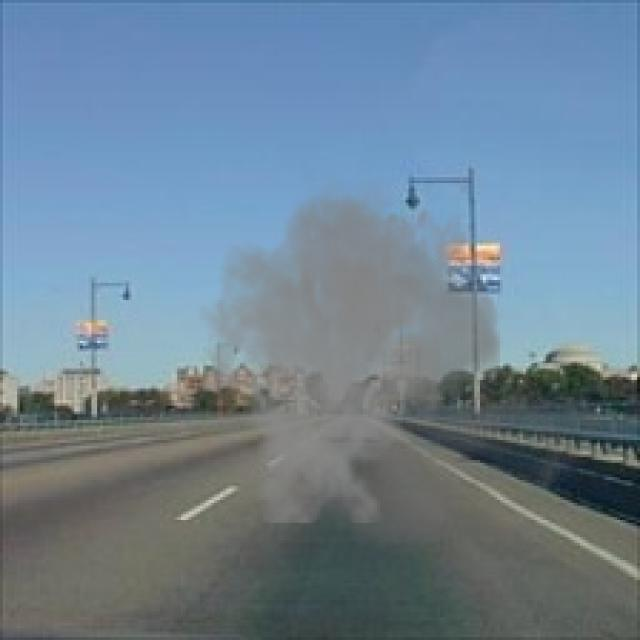Smoke: (197, 166, 609, 572)
